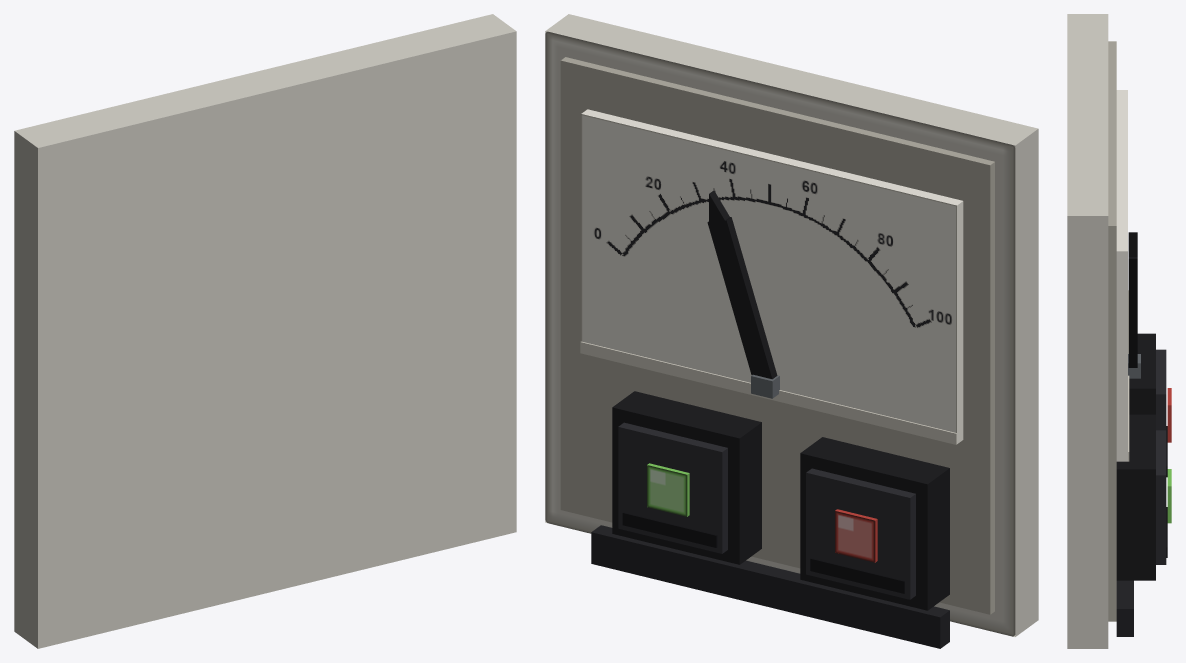
File: gauge_buttons.obj
3 views of the same model, side by side, from view 1: azimuth 30°, elevation 25°; view 2: azimuth 150°, elevation 25°; view 3: azimuth 270°, elevation 25° (orthographic). The views are drawn at different scales.
Parts seen in each view (by area): view 1: Panel; view 2: Panel, Face, BtnOpen, BtnClose, Needle; view 3: Panel, BtnOpen, Face, BtnClose, Needle.
Boxes of the visible parts, box(x1,y1,x2,y2) form: Panel: box(14, 14, 516, 648); Panel: box(545, 14, 1038, 648); Face: box(580, 109, 963, 444); BtnOpen: box(612, 391, 761, 564); BtnClose: box(800, 437, 949, 610); Needle: box(707, 190, 779, 398); Panel: box(1067, 14, 1133, 648); BtnOpen: box(1116, 414, 1171, 580); Face: box(1116, 90, 1129, 461); BtnClose: box(1129, 333, 1171, 477); Needle: box(1128, 232, 1140, 378).
Bounding box in the file's own units: 0.875 × 0.9031 × 0.1912.
Materials: 1 (1 with a texture image).
